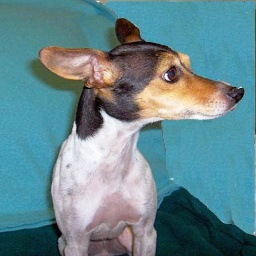dog: (33, 14, 244, 256)
